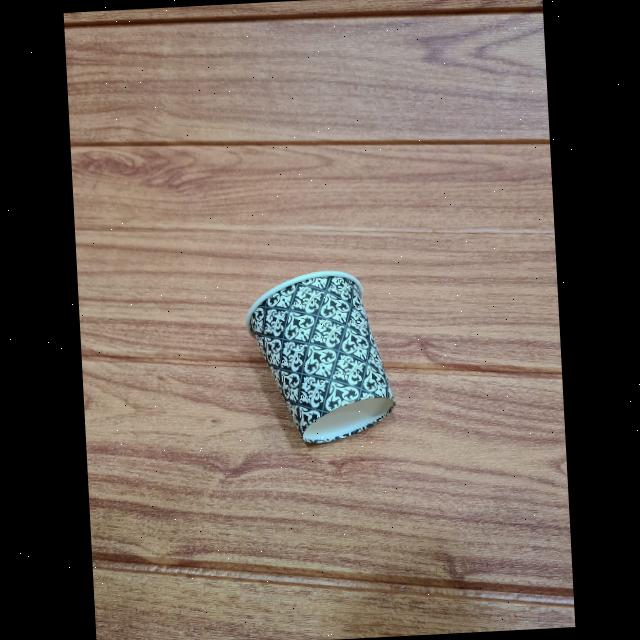trash: (234, 268, 408, 452)
